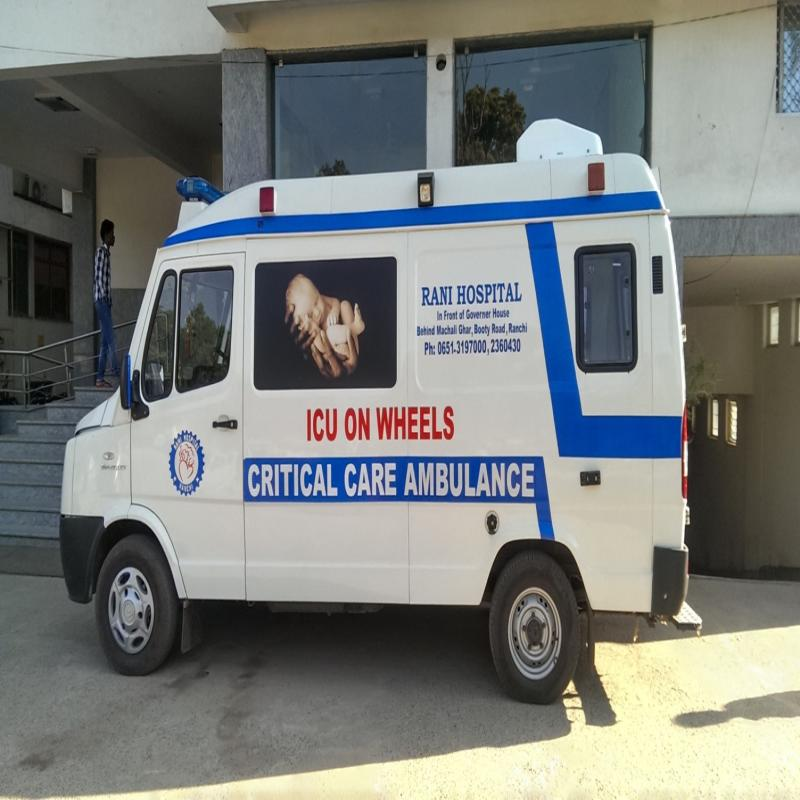AmbulanceSiren: (168, 160, 236, 213)
ambulance: (51, 113, 711, 713)
